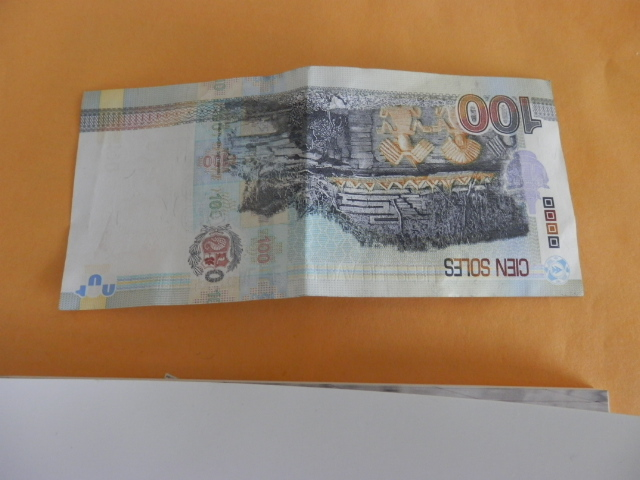B100: (66, 87, 591, 299)
